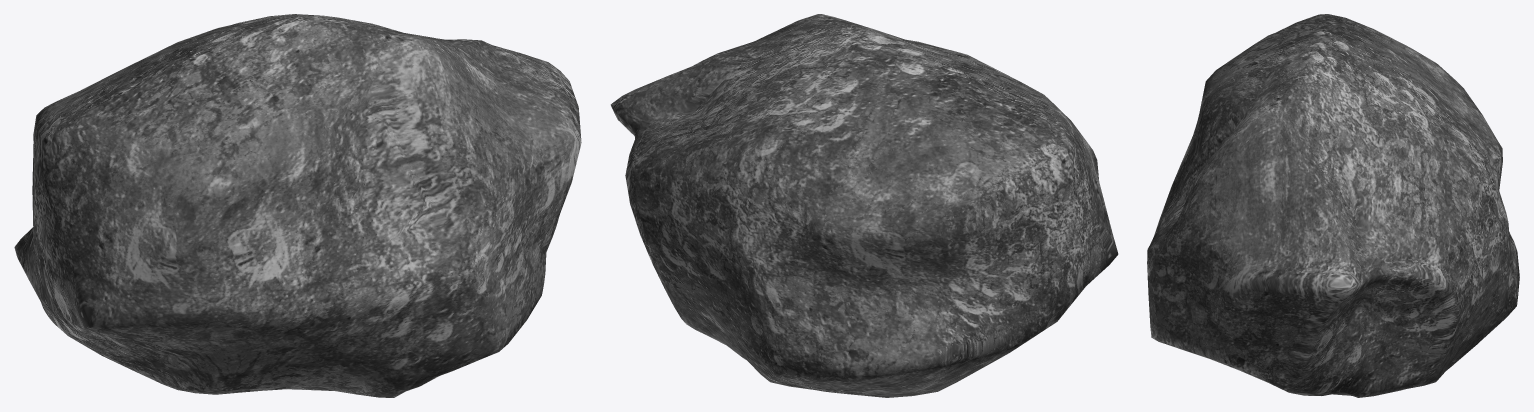
Rendered from Asteroid_Small_5.obj.
3 renders of one model, left to right at view 1: azimuth 30°, elevation 25°; view 2: azimuth 150°, elevation 25°; view 3: azimuth 270°, elevation 25°, orthographic. The views are drawn at different scales.
Visible parts, largest first — view 1: Aster_Small_5__Cube.013; view 2: Aster_Small_5__Cube.013; view 3: Aster_Small_5__Cube.013.
Part boxes in pixels (x1,y1,x2,y2): Aster_Small_5__Cube.013: (14,14,581,397); Aster_Small_5__Cube.013: (610,14,1118,397); Aster_Small_5__Cube.013: (1147,14,1519,397).
Bounding box in the file's own units: 1.49 × 1.04 × 1.09.
1 material, 1 textured.
